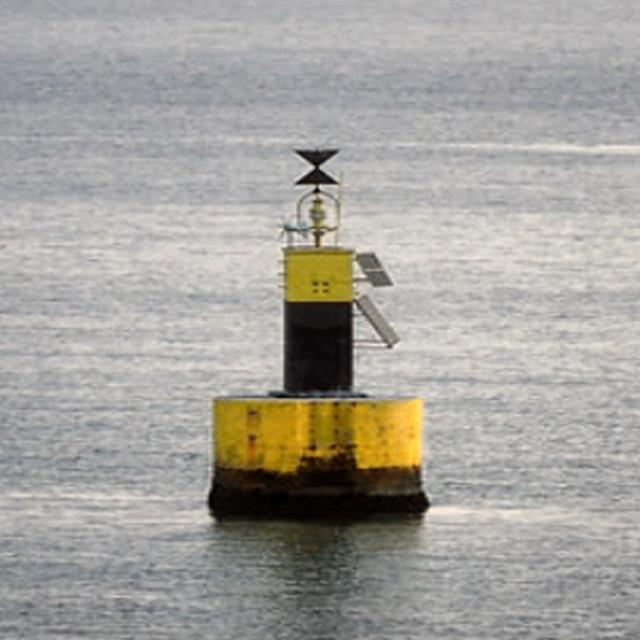buoy: (195, 135, 449, 518)
